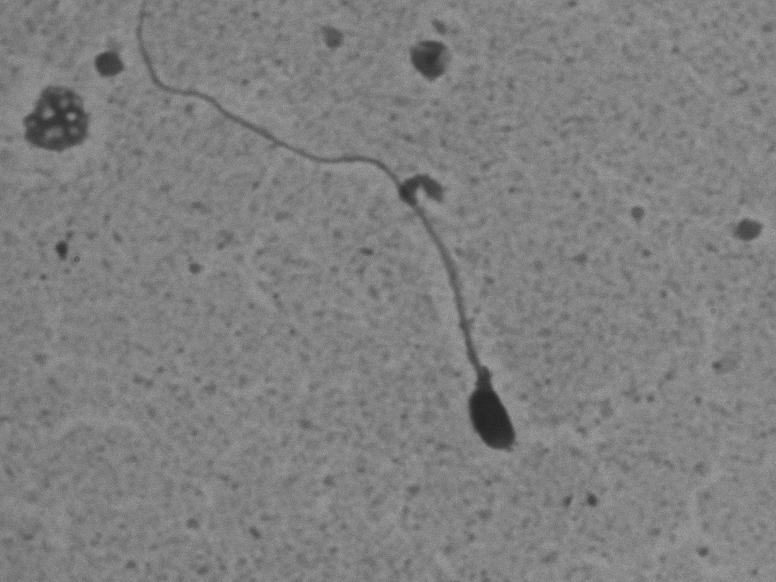Abnormal: (124, 9, 531, 464)
